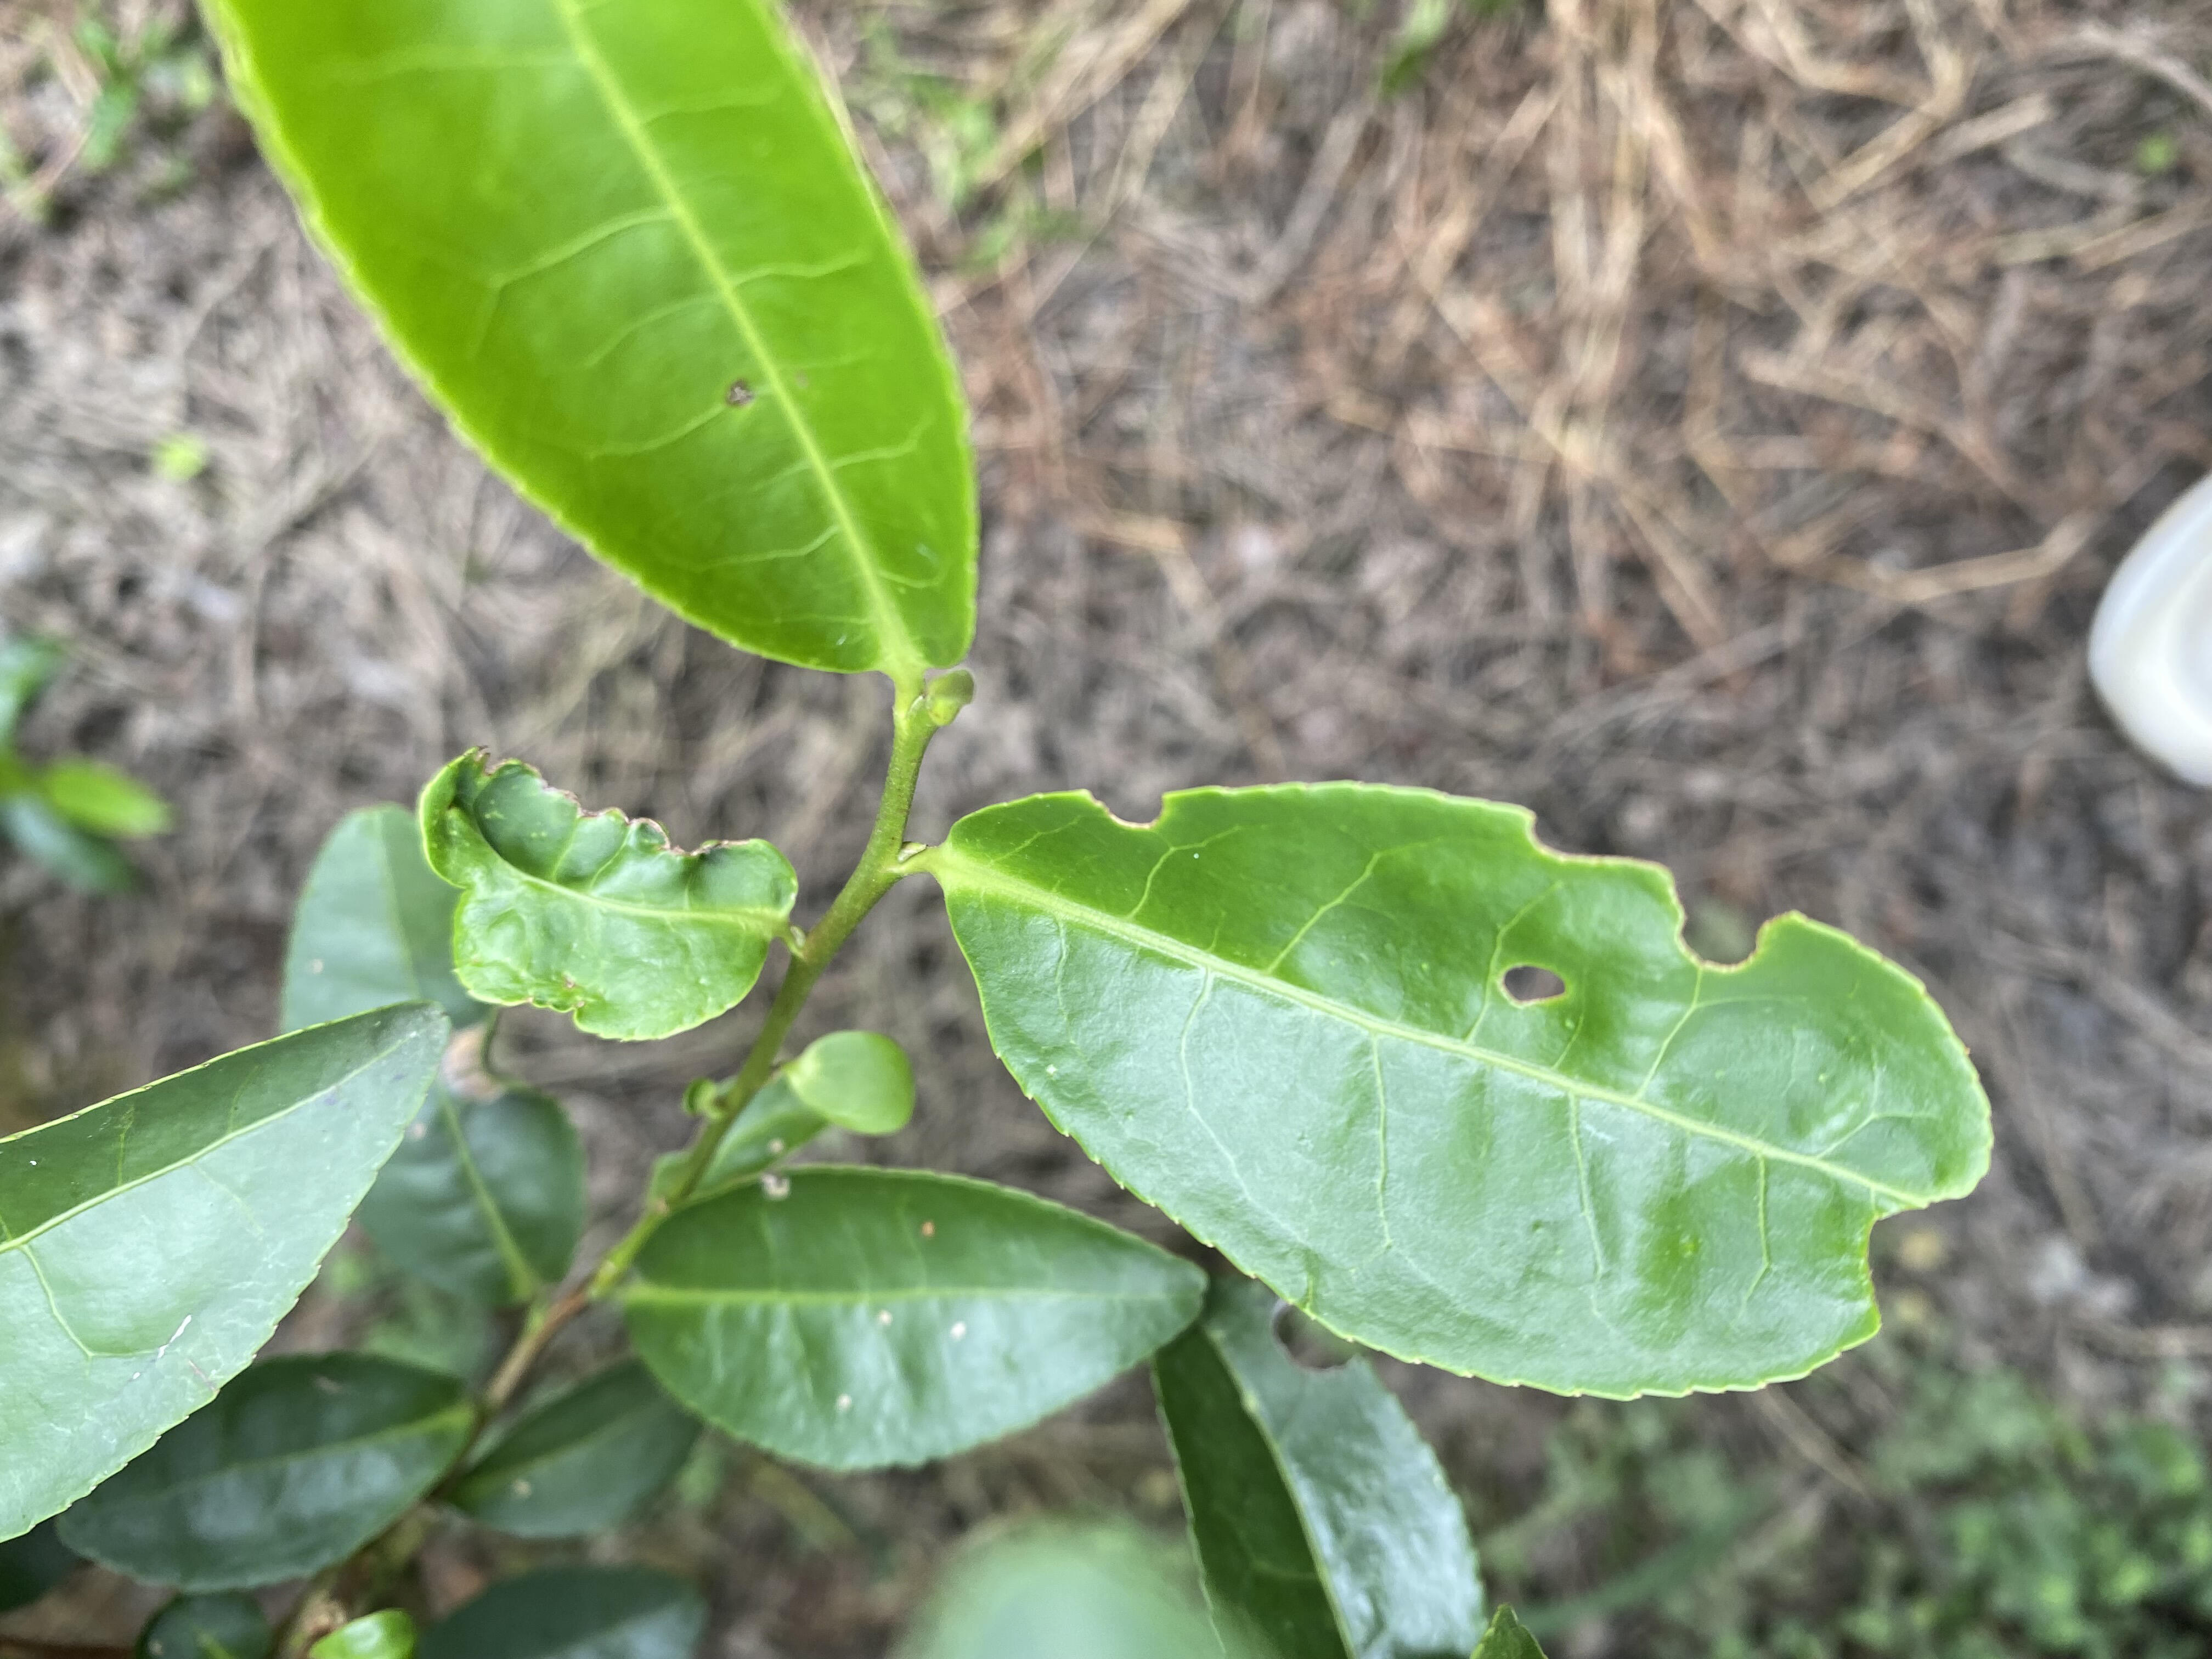chihuo_high: (935, 775, 1996, 1406), (416, 741, 799, 1040)
chihuo_low: (1151, 1272, 1486, 1659)
healthy: (2, 999, 451, 1544)
tanju_low: (212, 2, 974, 673), (613, 1162, 1212, 1473)
